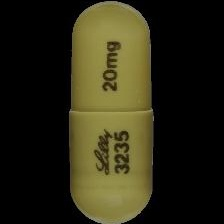0002-3235: (0, 0, 224, 224)
